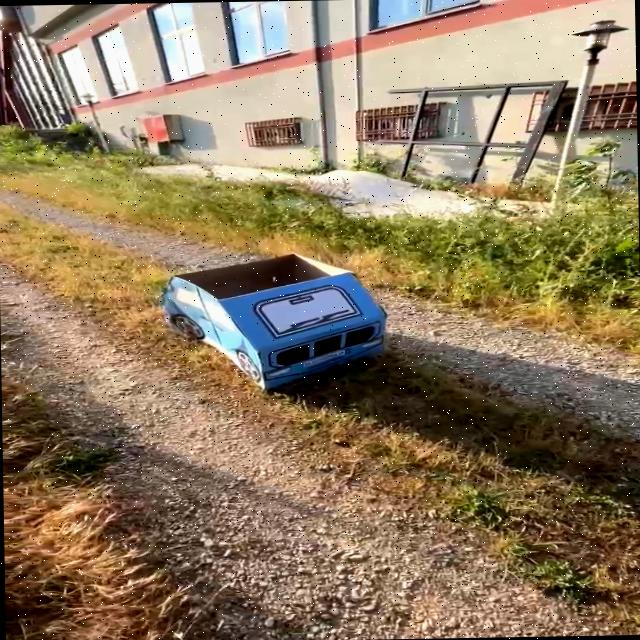blue_car: (113, 227, 470, 398)
